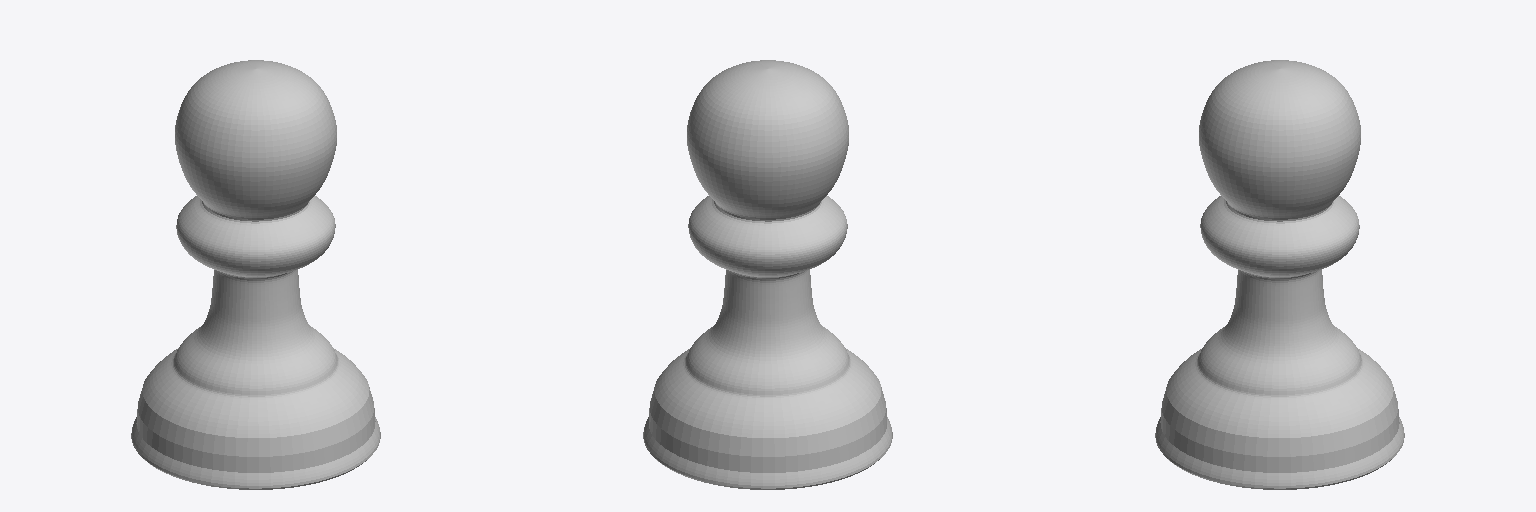
File: chess game.obj
The picture shows the model from 3 angles: view 1: azimuth 30°, elevation 25°; view 2: azimuth 150°, elevation 25°; view 3: azimuth 270°, elevation 25°; orthographic projection.
Parts seen in each view (by area): view 1: Circle; view 2: Circle; view 3: Circle.
Boxes of the visible parts, x1,y1,x2,y2 form: Circle: [131, 60, 380, 489]; Circle: [643, 60, 892, 489]; Circle: [1155, 60, 1404, 489].
Size of the model in its own units: 1.86 by 3.07 by 1.86.